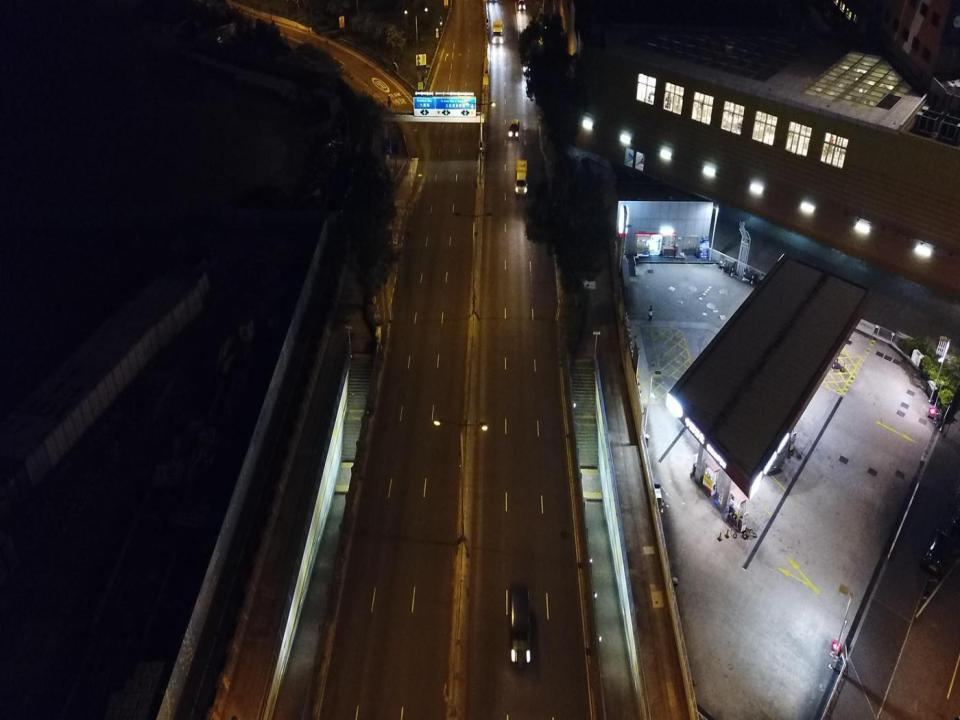bus: (701, 360, 790, 473)
car: (507, 584, 531, 670), (921, 523, 954, 578), (509, 117, 520, 139), (518, 0, 525, 11)
truck: (515, 159, 528, 196), (492, 19, 504, 45)
